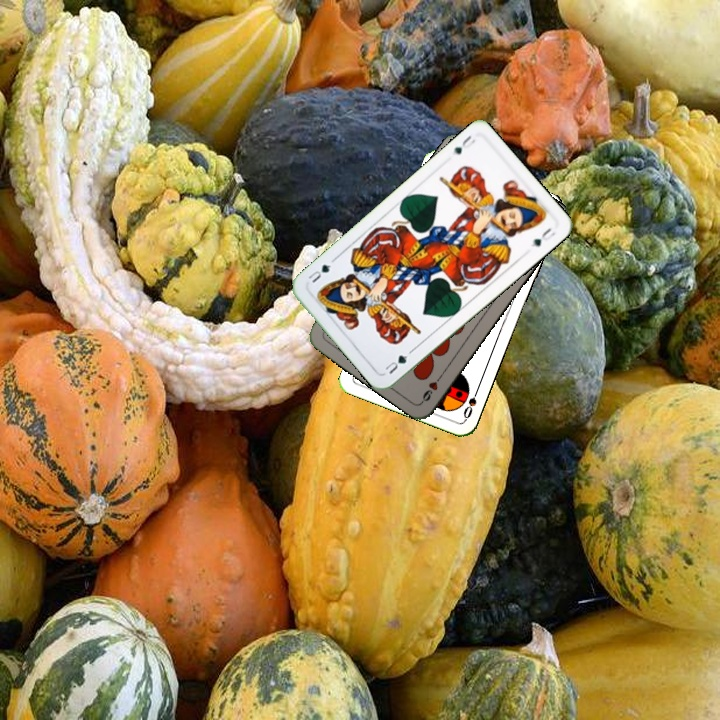GU: (381, 347, 415, 377), (449, 131, 478, 157)
H9: (418, 369, 446, 405)
SO: (459, 383, 482, 422)
